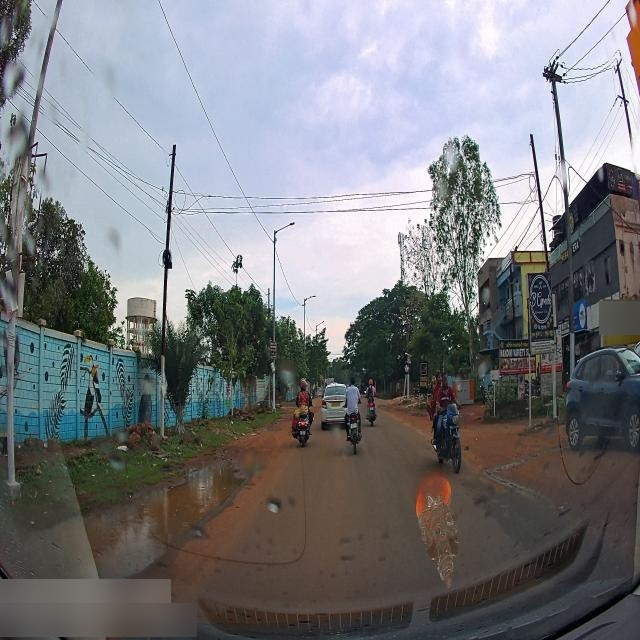pothole: (25, 460, 244, 580)
